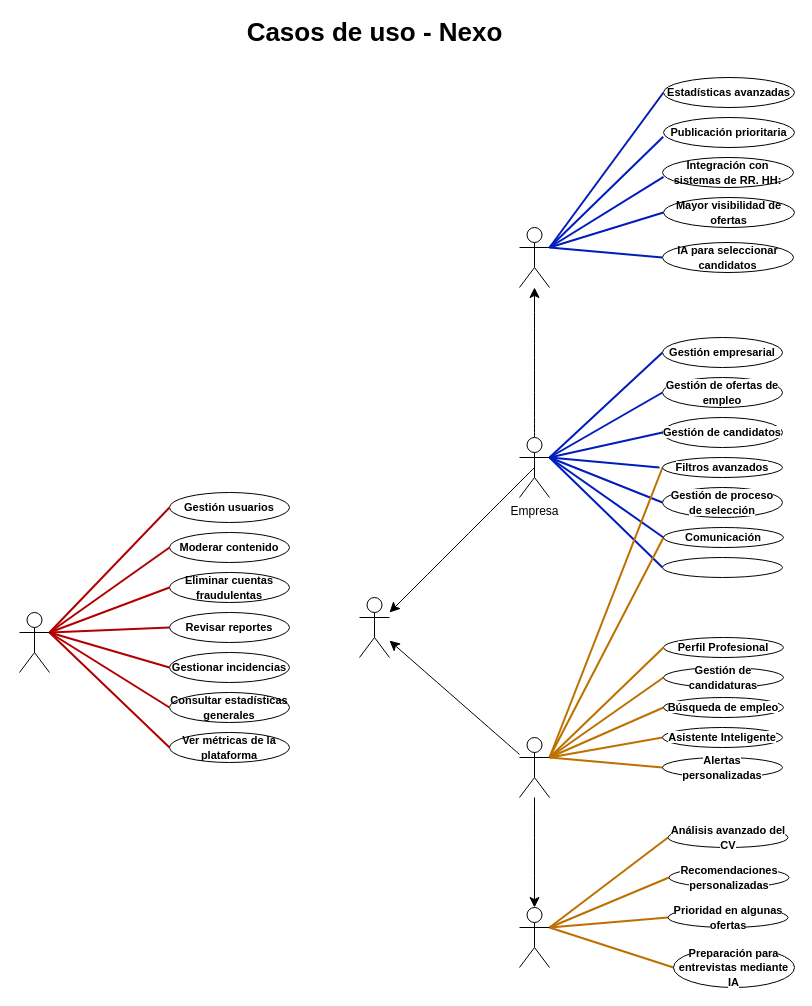
Some shapes in this 812 by 1006 pixel diagram are drawn without their labels. Here are the shapes that lost their labels. From the top down, the centre of each, then its label:
[534,257]: Empresa Premium
[722,567]: Estadísticas
[34,642]: Admin
[374,627]: Trasteo
[534,767]: Empleado
[534,937]: Empleado premium
